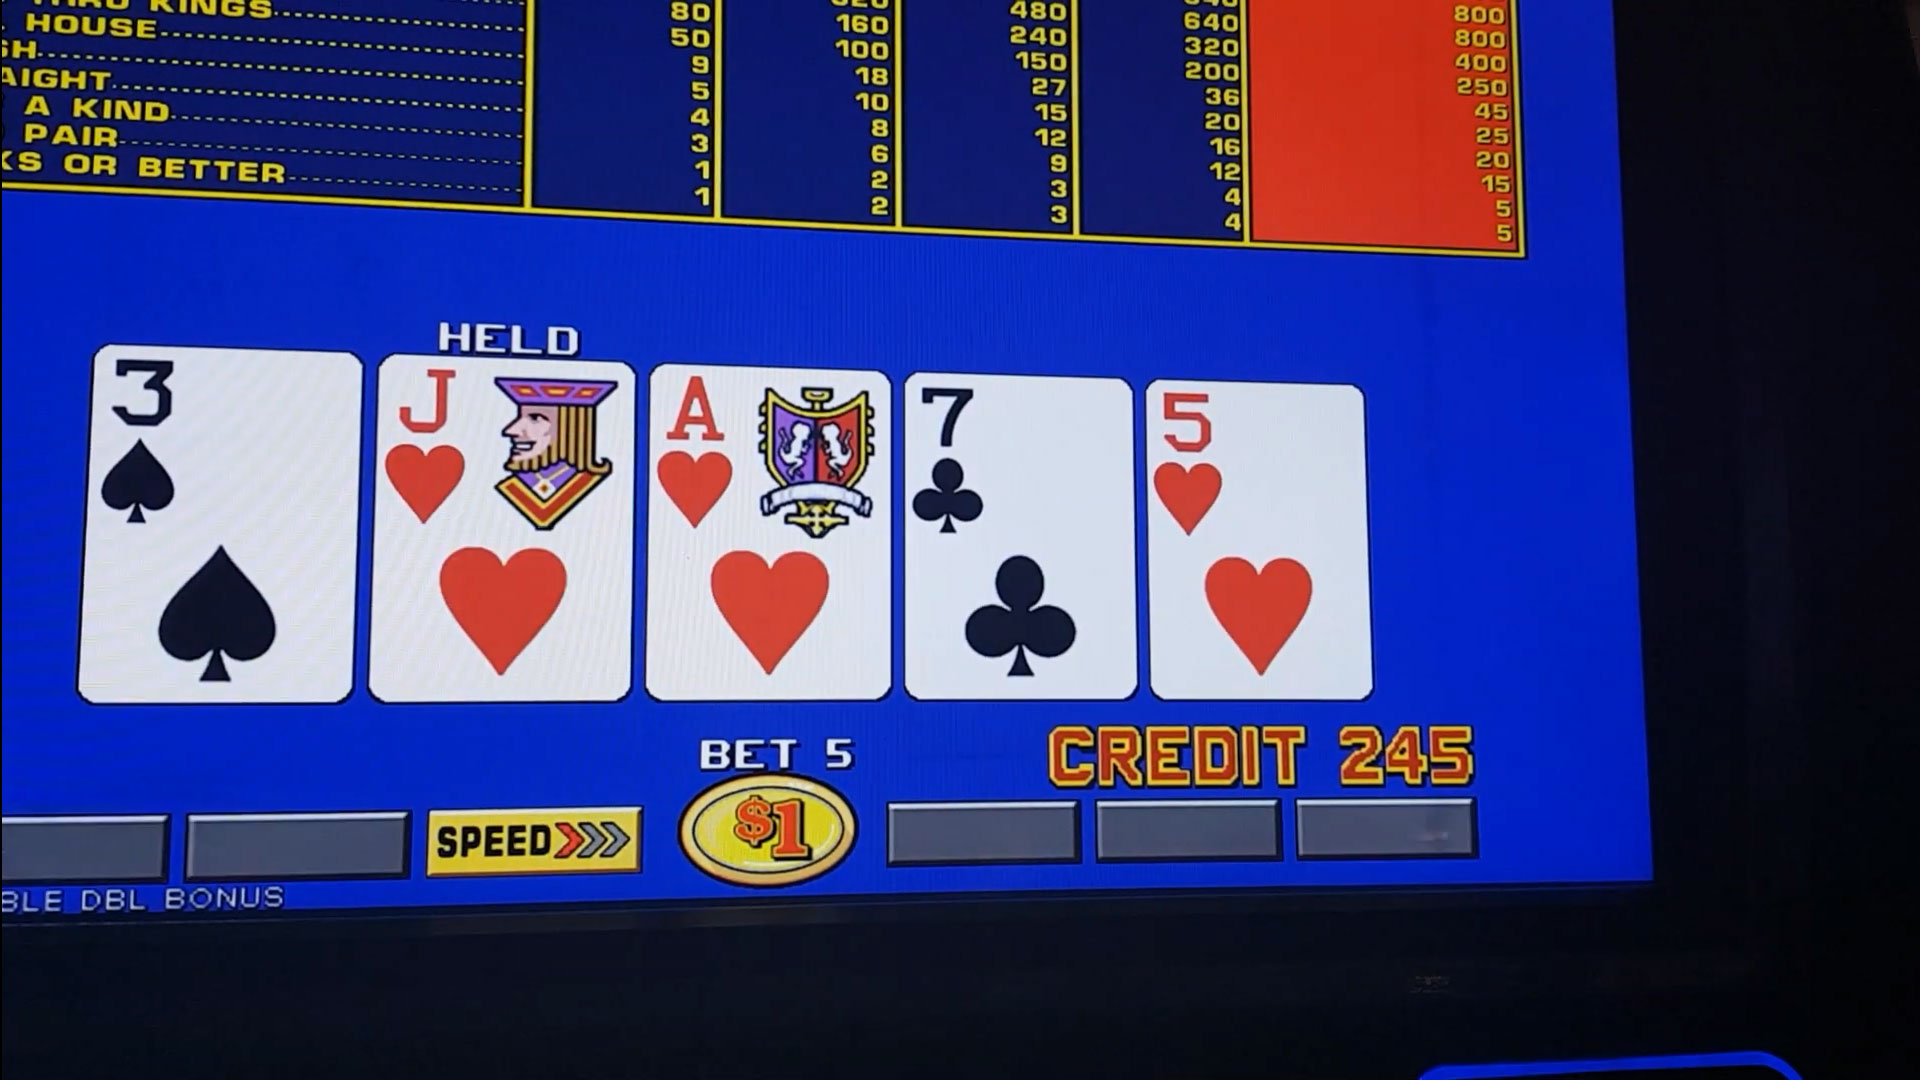C7: (913, 378, 1124, 545)
H5: (1151, 388, 1356, 550)
HA: (653, 372, 878, 541)
HJ: (380, 364, 626, 535)
S3: (96, 355, 351, 534)
